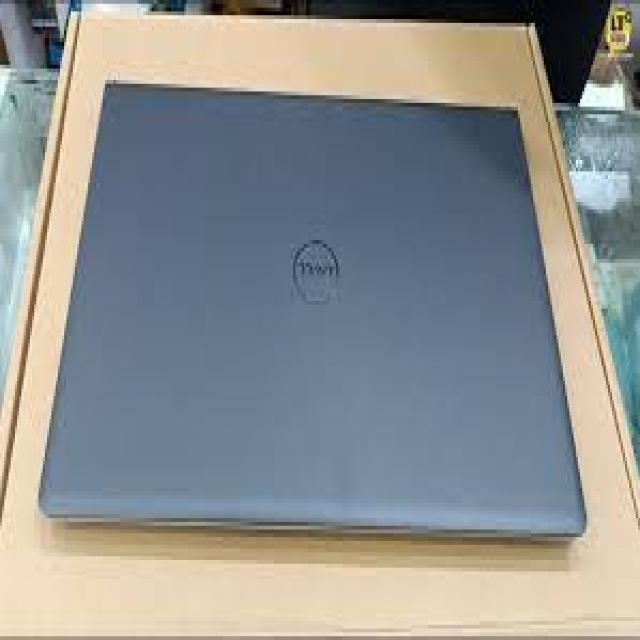laptop: (38, 76, 590, 558)
